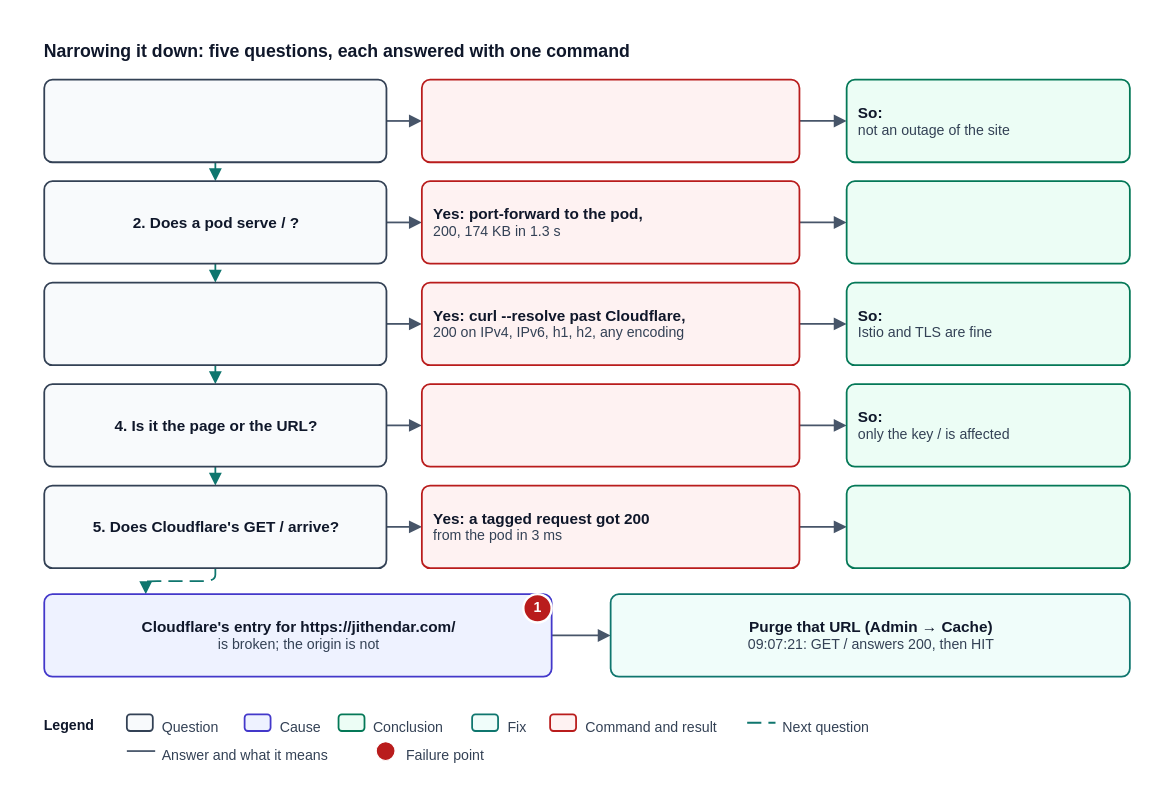
Image size: 1173x800. Some labels were removed from this diagram. Here are the shapes that lost their labels. From the top down, the centre of each, then its label:
At pixel 215 120: "1. Is the whole site down?".
At pixel 610 120: "No: /blog and /privacy-policy answer 200 through Cloudflare".
At pixel 987 222: "So: the app and ISR cache are fine".
At pixel 215 323: "3. Does the origin serve / ?".
At pixel 610 425: "The URL: /?a=1, /? and HEAD / all work through Cloudflare".
At pixel 987 526: "So: the answer stops at Cloudflare".
